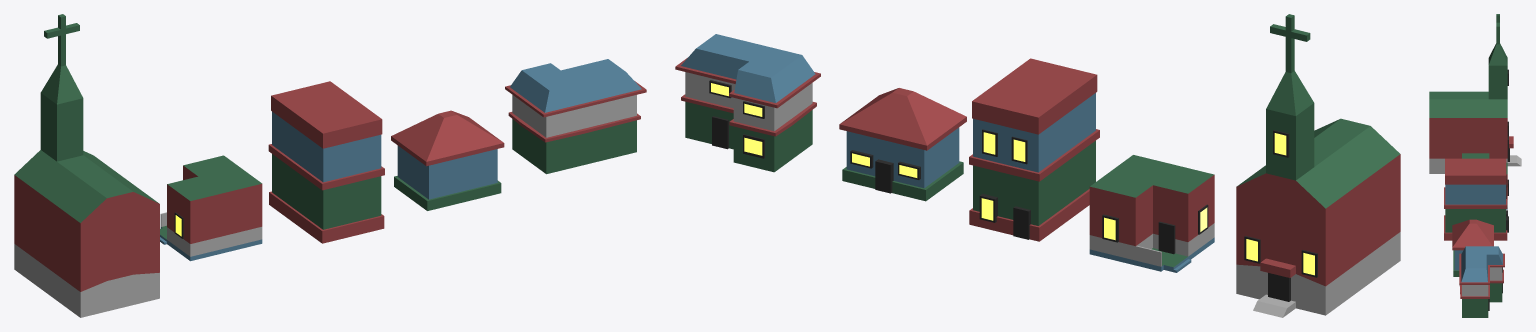
The model's file is _Pack_Houses.fbx.
The picture shows the model from 3 angles, left to right: view 1: azimuth 30°, elevation 25°; view 2: azimuth 150°, elevation 25°; view 3: azimuth 270°, elevation 25°; orthographic projection. The views are drawn at different scales.
Visible parts, largest first — view 1: Church, House.002, House, House.003, House.001; view 2: Church, House.002, House, House.003, House.001; view 3: Church, House.002, House, House.001, House.003.
Part boxes in pixels (bbox=[...]): Church: bbox=[14, 14, 159, 317]; House.002: bbox=[268, 81, 384, 243]; House: bbox=[505, 59, 646, 174]; House.003: bbox=[160, 155, 262, 261]; House.001: bbox=[391, 110, 504, 210]; Church: bbox=[1236, 14, 1400, 317]; House.002: bbox=[969, 58, 1099, 241]; House: bbox=[675, 34, 820, 172]; House.003: bbox=[1089, 155, 1214, 272]; House.001: bbox=[839, 88, 966, 201]; Church: bbox=[1429, 14, 1521, 173]; House.002: bbox=[1444, 158, 1508, 240]; House: bbox=[1459, 246, 1504, 317]; House.001: bbox=[1452, 219, 1493, 276]; House.003: bbox=[1462, 153, 1508, 209].
Bounding box in the file's own units: 49.12 × 19.84 × 11.21.
